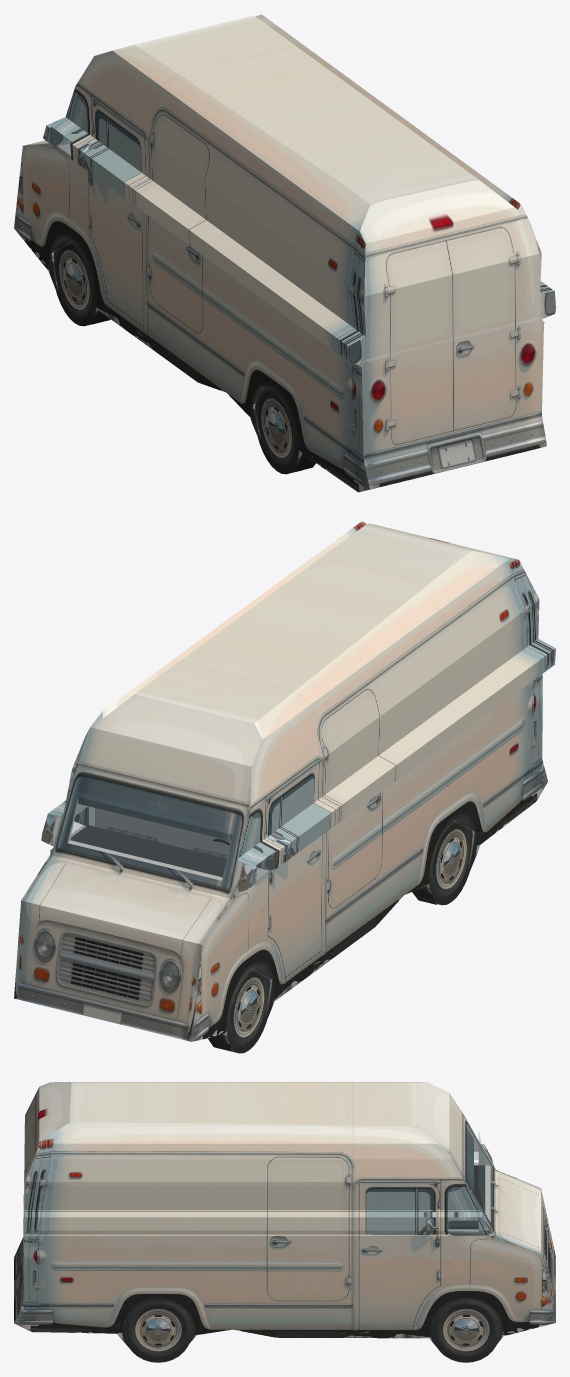
Rendered from delivery_van.glb.
3 renders of one model, top to bottom at view 1: azimuth 30°, elevation 25°; view 2: azimuth 150°, elevation 25°; view 3: azimuth 270°, elevation 25°, orthographic. The views are drawn at different scales.
Parts seen in each view (by area): view 1: delivery_van, wheel_BL, wheel_FL; view 2: delivery_van, delivery_van_cabin, wheel_BL, wheel_FL; view 3: delivery_van, wheel_BR, wheel_FR, delivery_van_cabin.
Boxes of the visible parts, <box> form: delivery_van: <box>14,14,555,492</box>; wheel_BL: <box>255,388,301,474</box>; wheel_FL: <box>53,242,94,326</box>; delivery_van: <box>14,521,555,1051</box>; delivery_van_cabin: <box>70,791,274,885</box>; wheel_BL: <box>416,820,472,905</box>; wheel_FL: <box>214,969,270,1053</box>; delivery_van: <box>14,1082,555,1354</box>; wheel_BR: <box>124,1300,191,1362</box>; wheel_FR: <box>432,1300,499,1362</box>; delivery_van_cabin: <box>448,1134,485,1235</box>.
Size of the model in its own units: 1.98 by 2.74 by 5.89.
11 materials, 4 textured.
